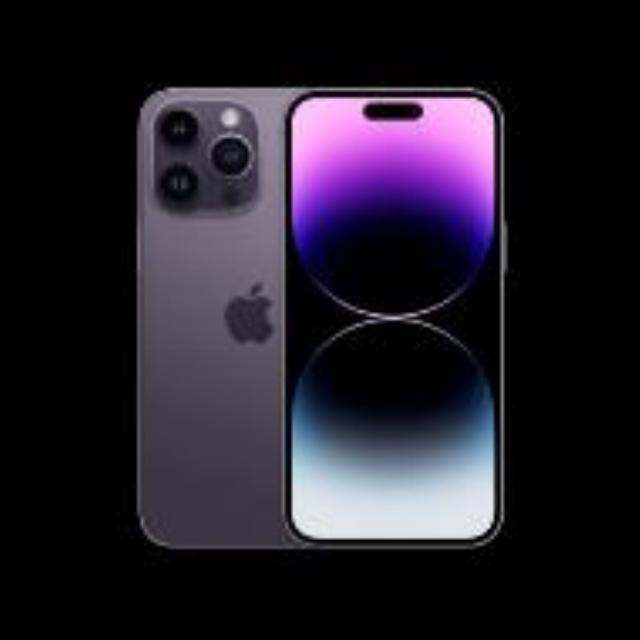phone: (279, 83, 521, 549)
